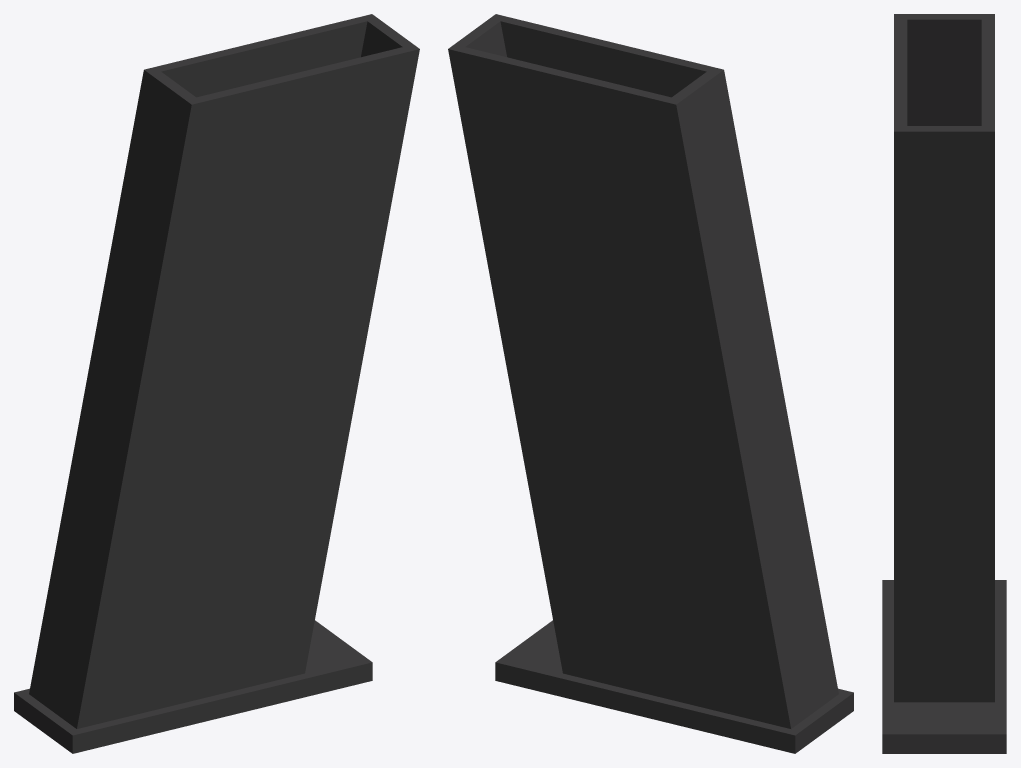
File: SM_Pistols3_01_3.glb
The picture shows the model from 3 angles, left to right: view 1: azimuth 30°, elevation 25°; view 2: azimuth 150°, elevation 25°; view 3: azimuth 270°, elevation 25°; orthographic projection. The views are drawn at different scales.
Parts seen in each view (by area): view 1: SM_Pistols3_01_3; view 2: SM_Pistols3_01_3; view 3: SM_Pistols3_01_3.
Part boxes in pixels (left/top/right/bottom): SM_Pistols3_01_3: left=14, top=14, right=419, bottom=753; SM_Pistols3_01_3: left=448, top=14, right=853, bottom=753; SM_Pistols3_01_3: left=882, top=14, right=1006, bottom=753.
Bounding box in the file's own units: 0.0918 × 0.1529 × 0.0265.
Materials: 1 (1 with a texture image).
